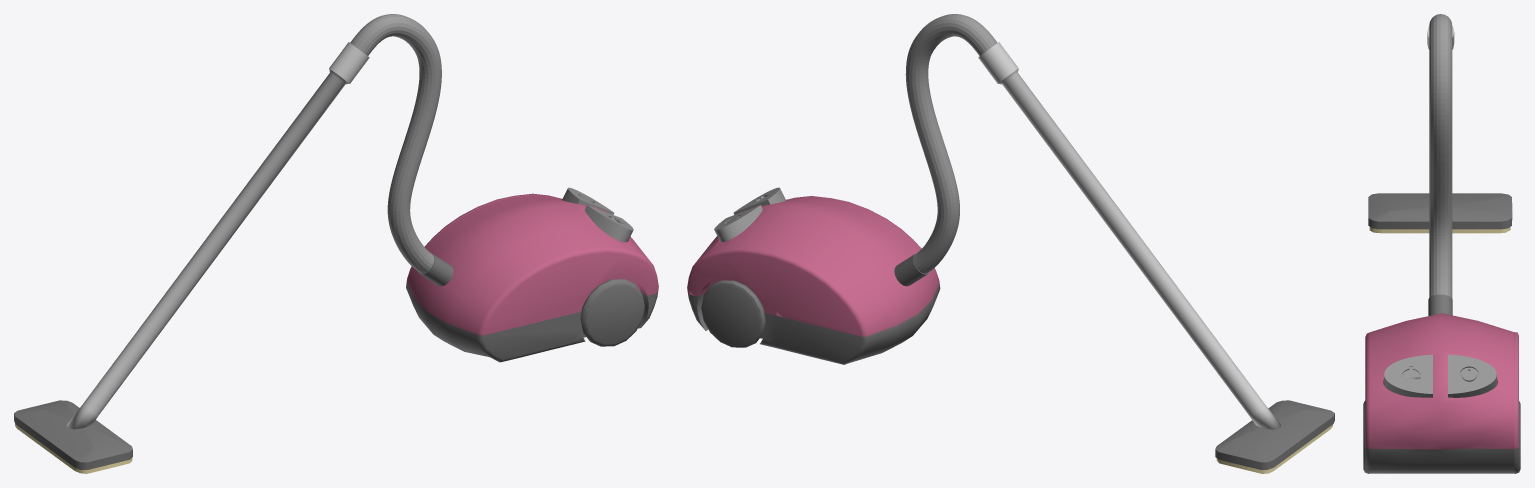
The model's file is sweethome3d-contributions-vacuum-293.glb.
The picture shows the model from 3 angles, left to right: view 1: azimuth 30°, elevation 25°; view 2: azimuth 150°, elevation 25°; view 3: azimuth 270°, elevation 25°; orthographic projection.
Visible parts, largest first — view 1: aspirateur_haut, Cylinder_6, Tube, aspirateur_bas, balai, roue_2, Boolean_18; view 2: aspirateur_haut, Cylinder_6, Tube, aspirateur_bas, balai, roue_1, bouton_power; view 3: aspirateur_haut, Tube, balai, aspirateur_bas, Boolean_18, bouton_power, brosse, debut_tube, roue_2.
Part boxes in pixels (x1=…): aspirateur_haut: x1=406, y1=193, x2=658, y2=335; Cylinder_6: x1=67, y1=42, x2=369, y2=429; Tube: x1=350, y1=14, x2=441, y2=273; aspirateur_bas: x1=406, y1=282, x2=657, y2=362; balai: x1=14, y1=400, x2=132, y2=469; roue_2: x1=580, y1=279, x2=644, y2=346; Boolean_18: x1=585, y1=205, x2=633, y2=242; aspirateur_haut: x1=687, y1=196, x2=939, y2=336; Cylinder_6: x1=978, y1=42, x2=1280, y2=429; Tube: x1=905, y1=14, x2=997, y2=273; aspirateur_bas: x1=688, y1=283, x2=940, y2=364; balai: x1=1215, y1=400, x2=1334, y2=469; roue_1: x1=701, y1=280, x2=765, y2=347; bouton_power: x1=714, y1=205, x2=762, y2=242; aspirateur_haut: x1=1365, y1=313, x2=1518, y2=449; Tube: x1=1429, y1=14, x2=1452, y2=297; balai: x1=1368, y1=193, x2=1512, y2=229; aspirateur_bas: x1=1365, y1=447, x2=1518, y2=473; Boolean_18: x1=1384, y1=354, x2=1432, y2=397; bouton_power: x1=1448, y1=354, x2=1496, y2=397; brosse: x1=1369, y1=227, x2=1510, y2=233; debut_tube: x1=1428, y1=294, x2=1452, y2=315; roue_2: x1=1363, y1=401, x2=1369, y2=473.
Bounding box in the file's own units: 143 × 82.34 × 32.84.
